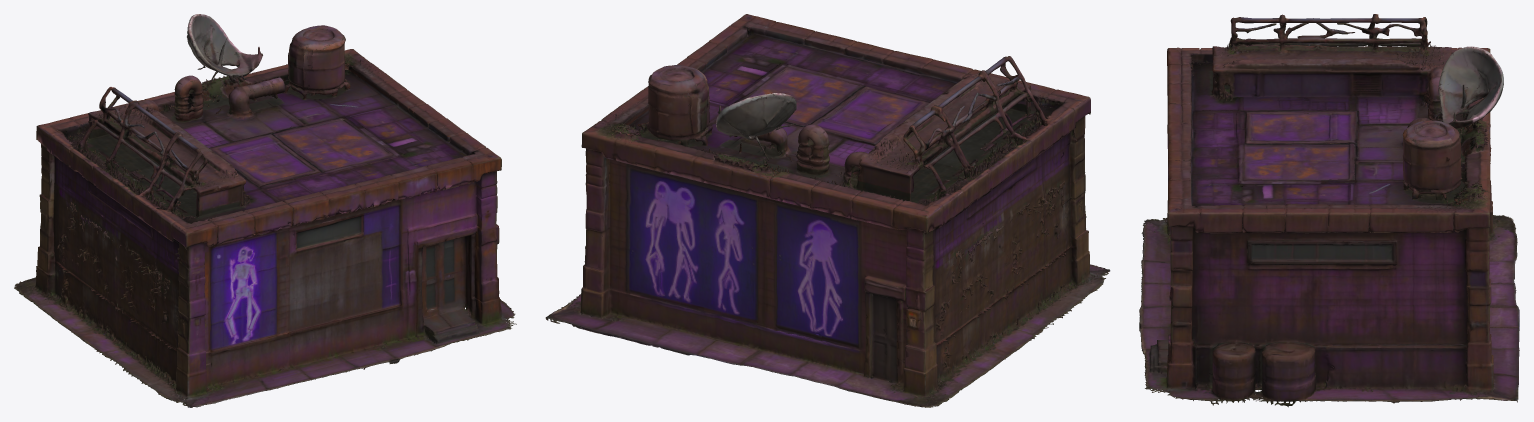
Rendered from diamonds.glb.
3 views of the same model, side by side, from view 1: azimuth 30°, elevation 25°; view 2: azimuth 150°, elevation 25°; view 3: azimuth 270°, elevation 25° (orthographic). The views are drawn at different scales.
Parts seen in each view (by area): view 1: Mesh_0; view 2: Mesh_0; view 3: Mesh_0.
Part boxes in pixels (x1=…): Mesh_0: x1=14, y1=14, x2=516, y2=407; Mesh_0: x1=545, y1=14, x2=1110, y2=407; Mesh_0: x1=1139, y1=14, x2=1519, y2=407.
Size of the model in its own units: 6.19 by 4 by 5.28.
Materials: 1 (1 with a texture image).
